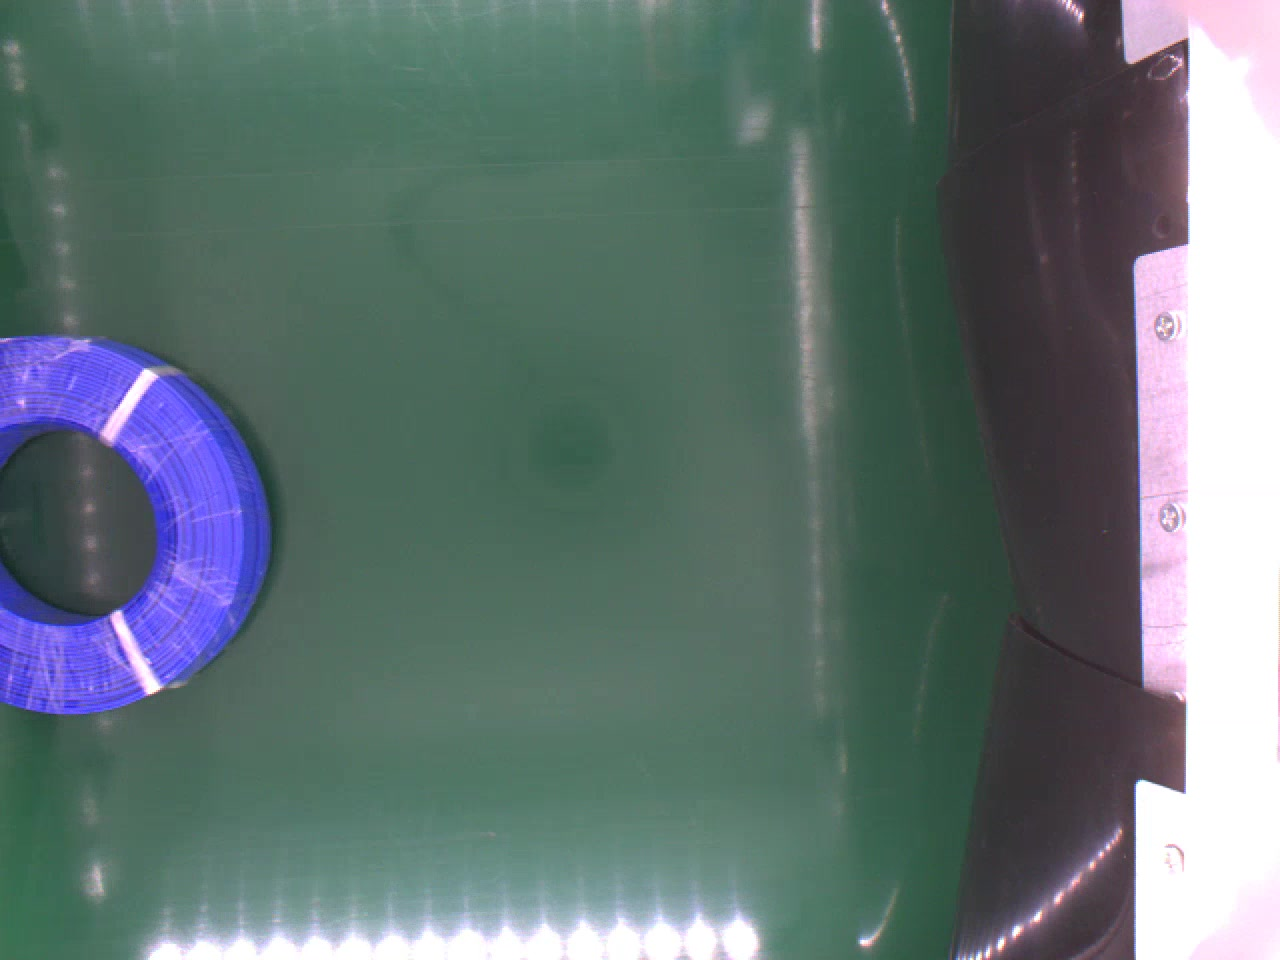blue: (0, 335, 271, 711)
